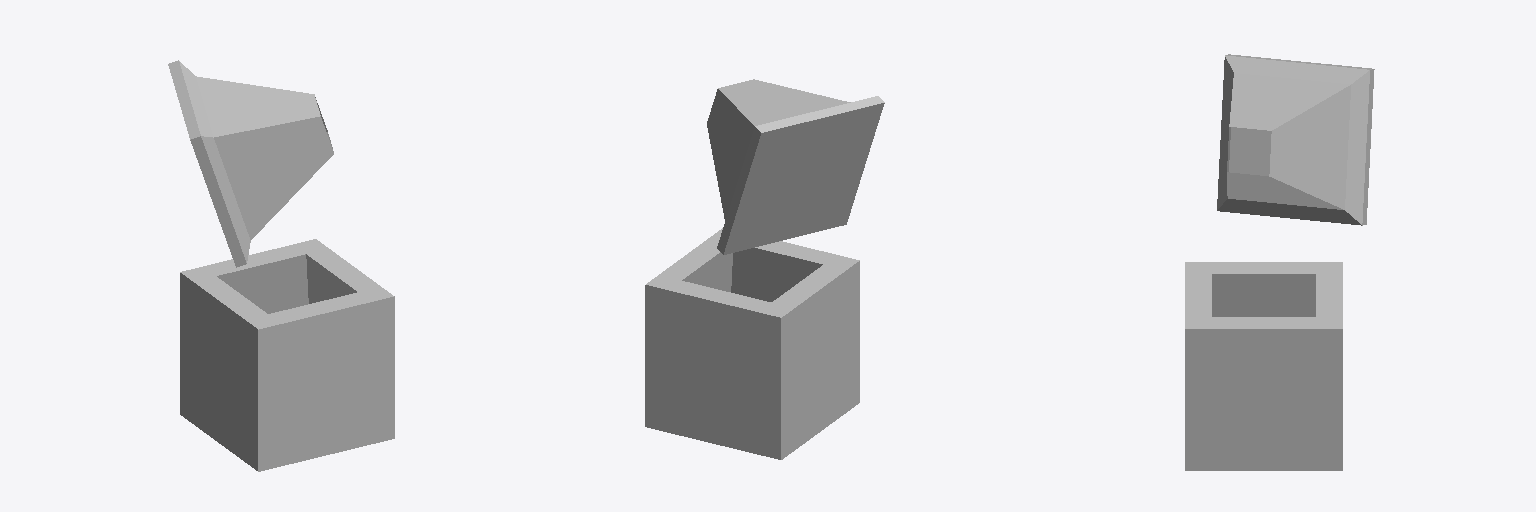
The model's file is AnimatedBox_000101.obj.
3 renders of one model, left to right at view 1: azimuth 30°, elevation 25°; view 2: azimuth 150°, elevation 25°; view 3: azimuth 270°, elevation 25°, orthographic.
Visible parts, largest first — view 1: Cube, Cube.001; view 2: Cube, Cube.001; view 3: Cube, Cube.001.
Part boxes in pixels (x1,y1,x2,y2): Cube: (180,239,394,471); Cube.001: (168,60,333,267); Cube: (645,228,859,459); Cube.001: (707,79,884,254); Cube: (1185,262,1342,470); Cube.001: (1217,54,1374,225).
Bounding box in the file's own units: 2.68 × 4.79 × 2.41.